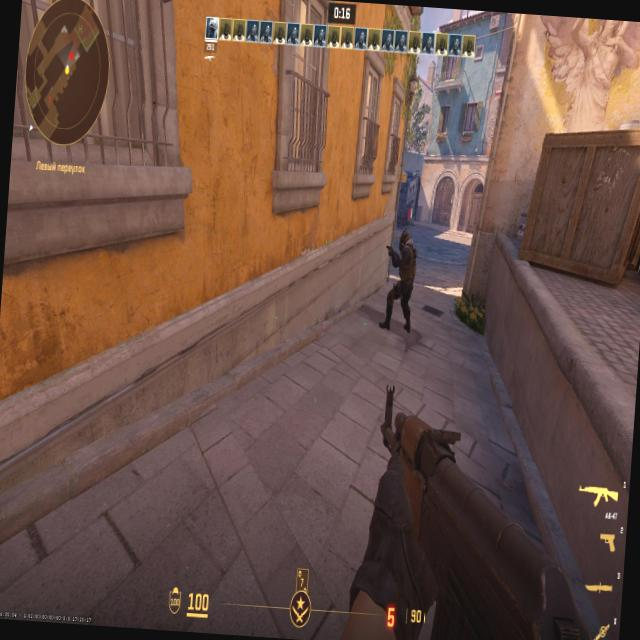CT: (391, 229, 418, 306)
CT_heat: (396, 234, 408, 249)
